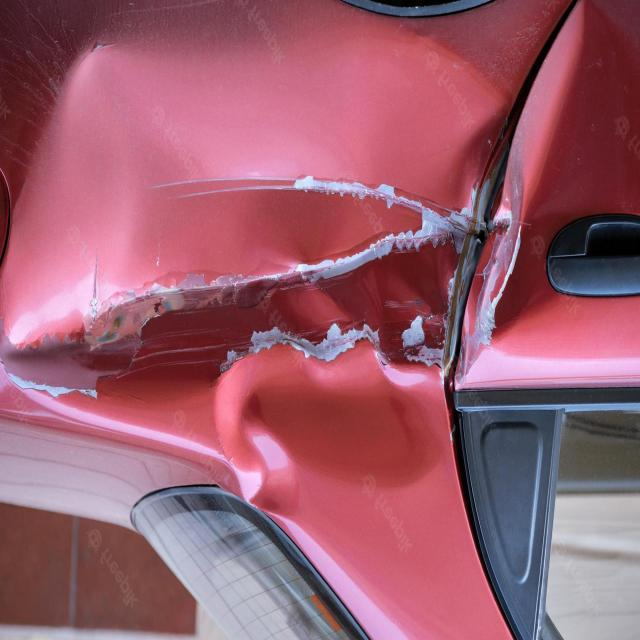dent: (2, 124, 550, 546)
